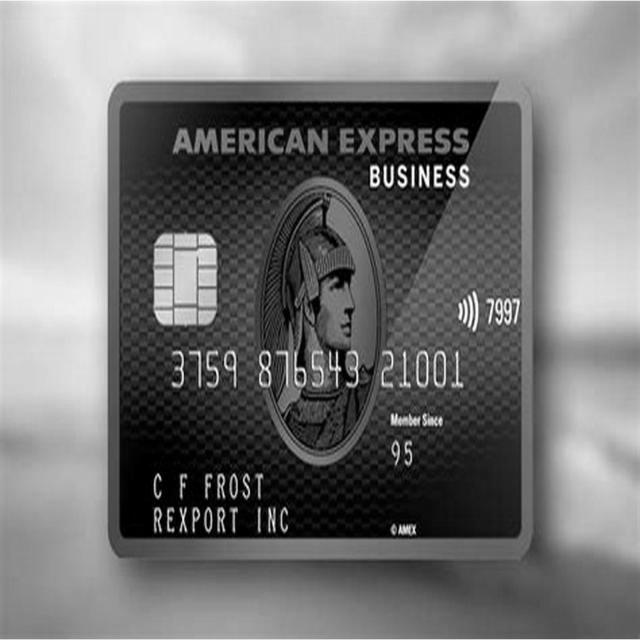card: (106, 80, 534, 564)
